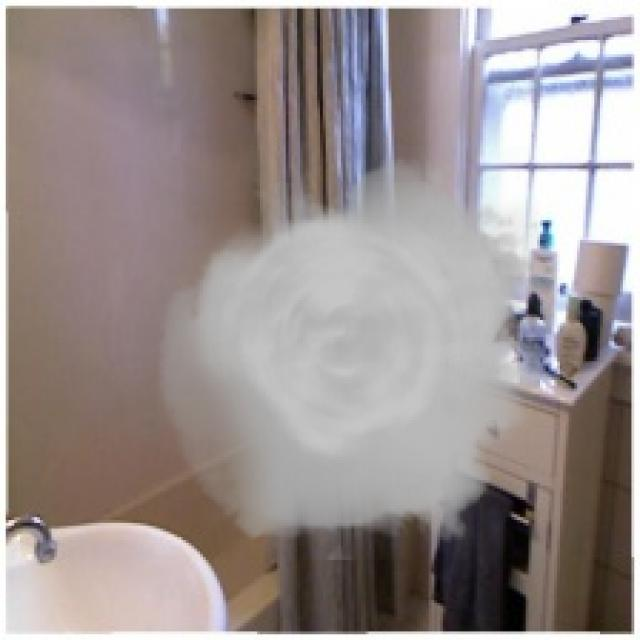smoke: (157, 146, 540, 560)
